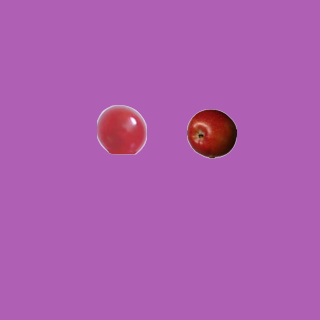Apple Braeburn: (186, 108, 236, 158)
Redcurrant: (96, 104, 146, 154)
